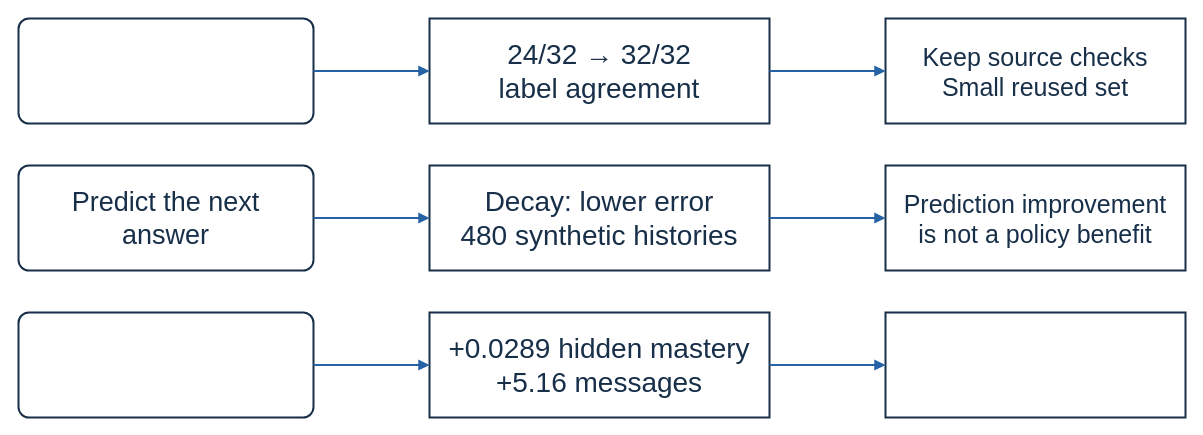
The diagram is 1203 pixels wide and 435 high, and some of its shapes have lost their labels. Each missing label, with the centre of its shape:
"Assess the answer" belongs at (x=165, y=70).
"Choose support timing" belongs at (x=165, y=364).
"Keep control Test the interruption cost" belongs at (x=1035, y=364).
